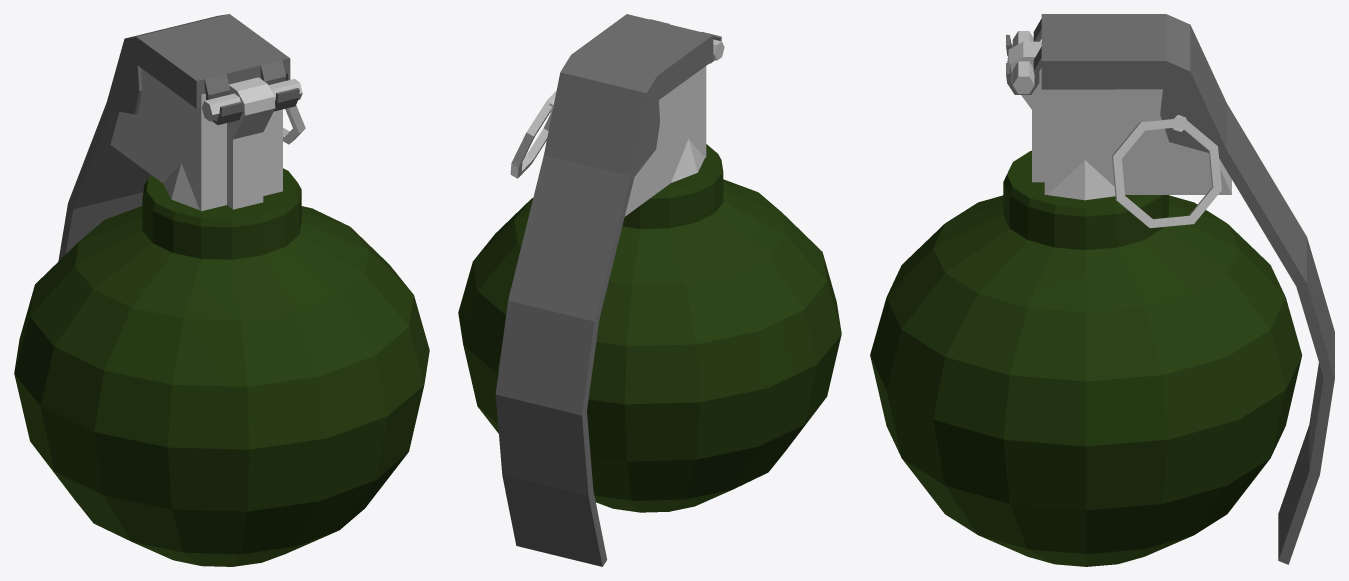
The model's file is Grenade_1.fbx.
3 views of the same model, side by side, from view 1: azimuth 30°, elevation 25°; view 2: azimuth 150°, elevation 25°; view 3: azimuth 270°, elevation 25° (orthographic). The views are drawn at different scales.
Visible parts, largest first — view 1: Grenade_1, Grenade_1 Cover, Grenade_1 Pin; view 2: Grenade_1, Grenade_1 Cover, Grenade_1 Pin; view 3: Grenade_1, Grenade_1 Cover, Grenade_1 Pin.
Boxes of the visible parts, x1,y1,x2,y2 form: Grenade_1: (14, 68, 429, 566); Grenade_1 Cover: (58, 14, 299, 261); Grenade_1 Pin: (283, 105, 305, 144); Grenade_1: (458, 39, 841, 512); Grenade_1 Cover: (495, 14, 721, 566); Grenade_1 Pin: (510, 90, 556, 178); Grenade_1: (870, 31, 1302, 566); Grenade_1 Cover: (1006, 14, 1334, 564); Grenade_1 Pin: (1112, 115, 1221, 228).
Size of the model in its own units: 12.4 by 16.13 by 13.34.
